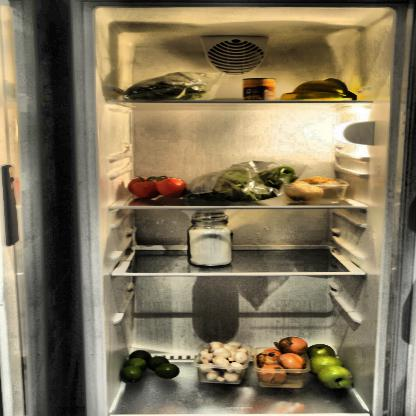apple: (307, 342, 355, 390)
banana: (278, 78, 353, 101)
corn: (241, 76, 276, 103)
green_beans: (114, 72, 222, 100)
lime: (120, 348, 181, 385)
mushrooms: (195, 338, 255, 384)
onion: (256, 335, 316, 387)
potato: (284, 174, 348, 205)
spinach: (182, 165, 299, 208)
tomato: (126, 174, 188, 200)
